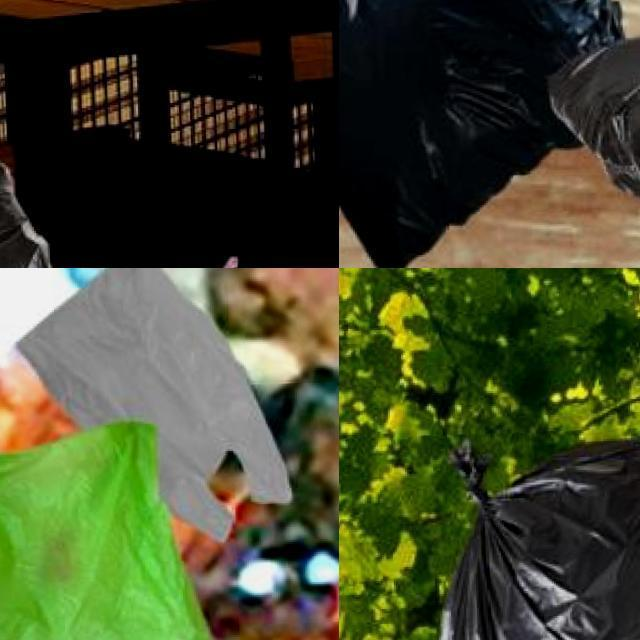waste: (339, 0, 630, 268), (19, 268, 292, 543), (0, 411, 225, 640), (429, 436, 640, 640), (567, 9, 640, 212)
